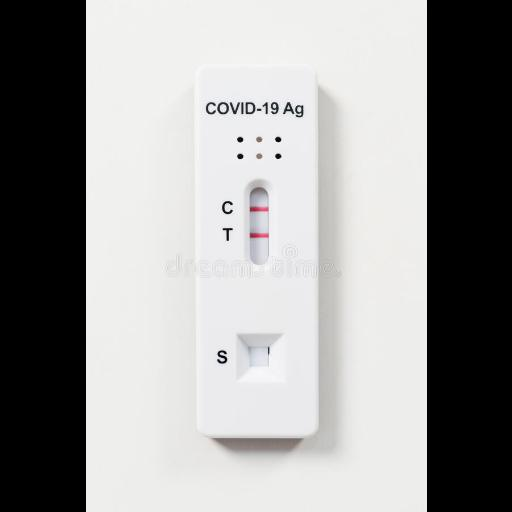Pos: (195, 66, 317, 434)
